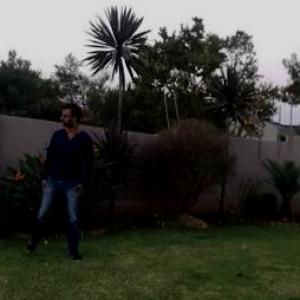follow: (44, 98, 90, 259)
